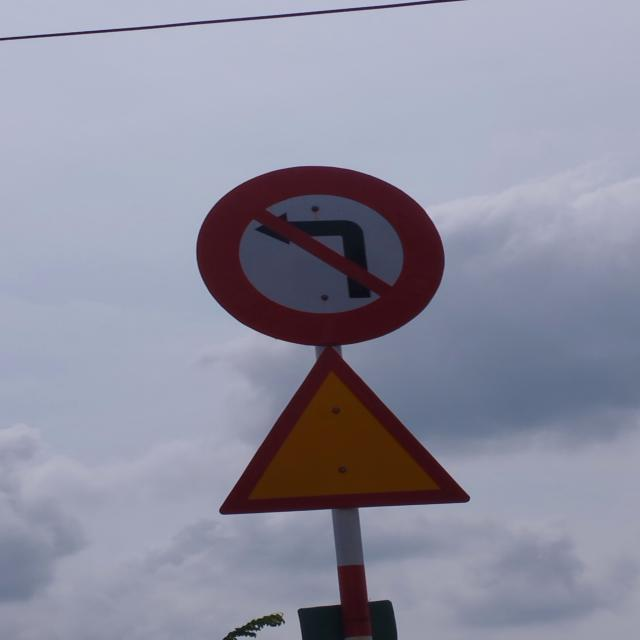Cam_Re_Trai: (194, 165, 445, 347)
Gioi_Han_Toc_Do_25: (214, 346, 472, 514)
